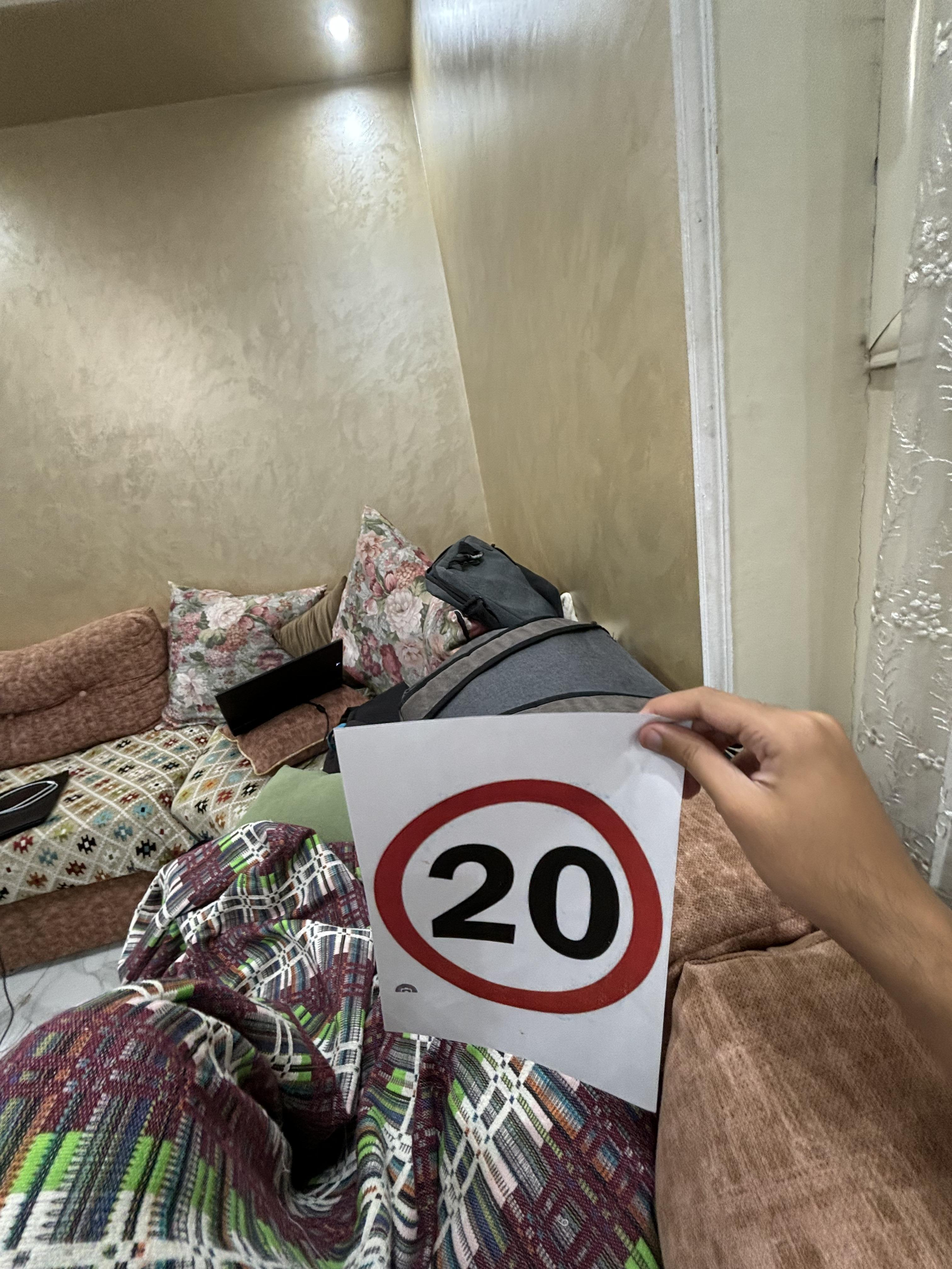20-Speed: (364, 769, 684, 1019)
